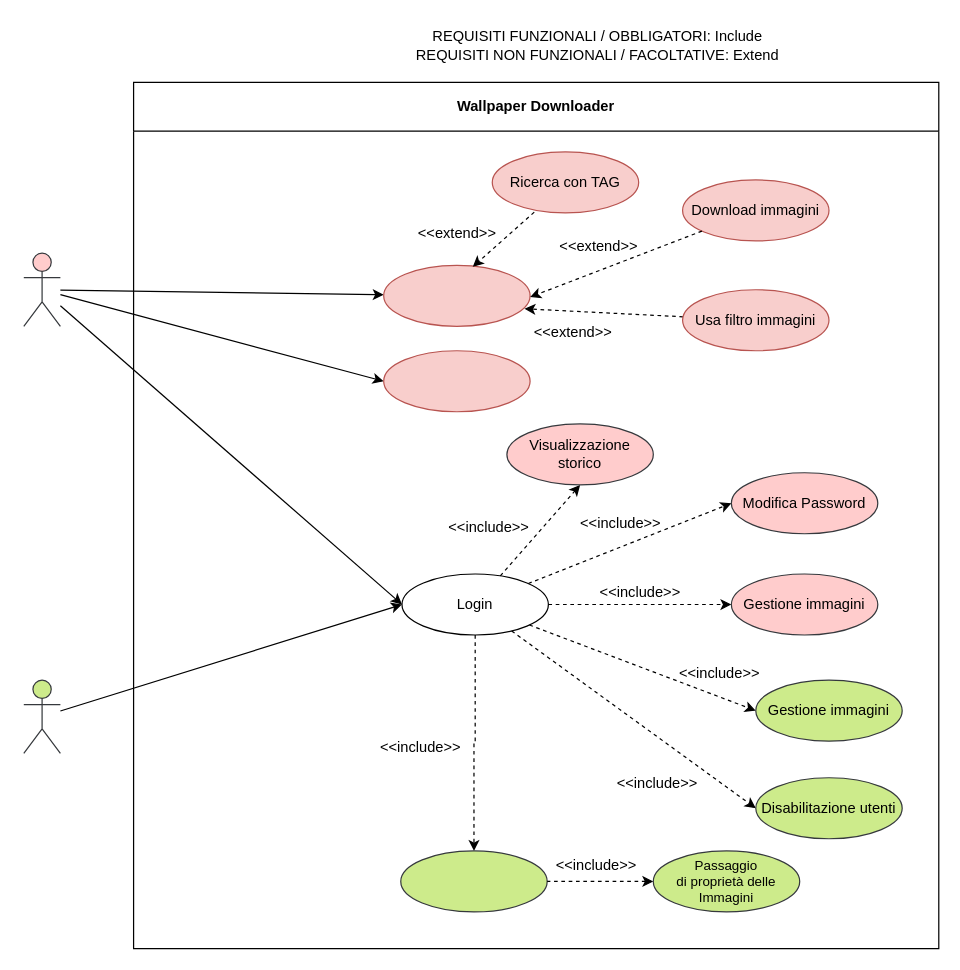
Some shapes in this 960 by 970 pixel diagram are drawn without their labels. The centre of each missing label's shape, as x and y in pixels:
Admin: the point at 41,716
Eliminazione utenti: the point at 473,881
Registrazione: the point at 456,381
Utente: the point at 41,289
Visualizza immagini: the point at 456,295
